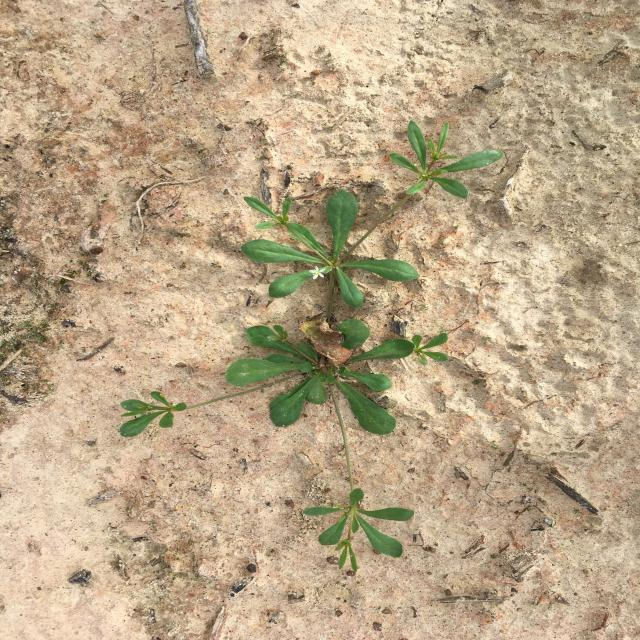Carpetweed: (120, 120, 503, 572)
